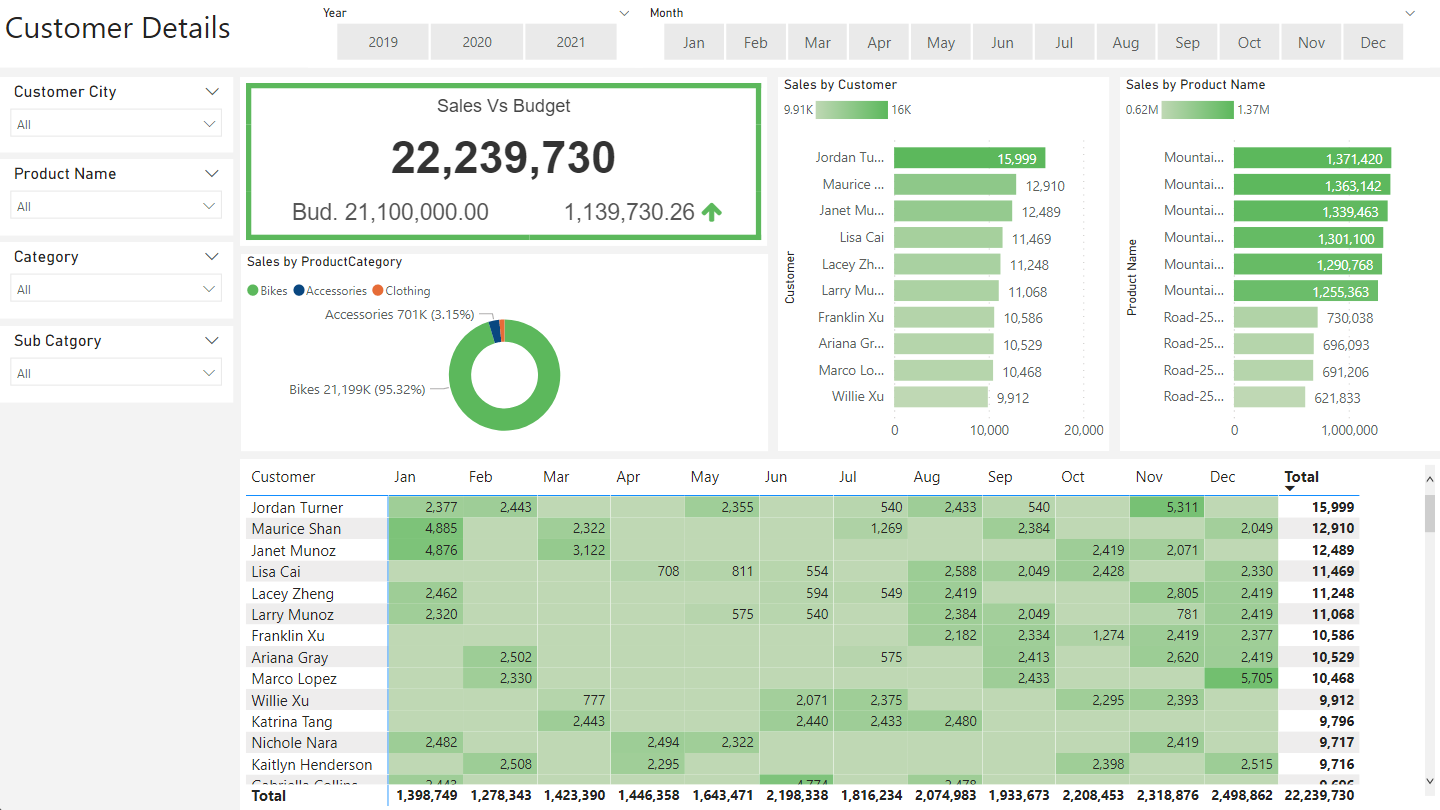

What the dashboard file says about the page in this screenshot:
{"tool":"powerbi","page":{"name":"Customer Details","canvas":[1280,720],"ordinal":1},"visuals":[{"type":"textbox","box":[0,0,1280,60],"z":0},{"type":"slicer","fields":{"Values":["DIM_Customer.CustomerCity"]},"box":[0,68.1,208.1,67.1],"z":1000},{"type":"slicer","title":"Sub Category","fields":{"Values":["DIM_Product.ProductSubCategory"]},"box":[0,289.4,207.7,68.4],"z":2000},{"type":"slicer","title":"Sub Category","fields":{"Values":["DIM_Product.ProductCategory"]},"box":[0,214.8,207.7,68.4],"z":3000},{"type":"slicer","title":"Sub Category","fields":{"Values":["DIM_Product.ProductName"]},"box":[0,141.2,207.7,68.4],"z":4000},{"type":"slicer","fields":{"Values":["DIM_Calendar.Year"]},"box":[274.2,0,298.2,60],"z":5000},{"type":"slicer","fields":{"Values":["DIM_Calendar.MonthShort"]},"box":[564.4,0,705.6,60],"z":6000},{"type":"BBED0A4D4D8D44CE93CF2DAFADEE466C","fields":{"actual":["Key Measures.Sales"],"target1":["Key Measures.Budget Amount"],"target2":["Key Measures.Sales - Budgets"]},"box":[214,68.4,467.9,150],"z":7000},{"type":"donutChart","fields":{"Category":["DIM_Product.ProductCategory"],"Y":["Key Measures.Sales"]},"box":[214.8,225.5,467.9,174.9],"z":8000},{"type":"barChart","fields":{"Y":["Key Measures.Sales"],"Category":["DIM_Customer.FullName"]},"box":[691.6,68.4,293.9,332],"z":10000},{"type":"barChart","fields":{"Y":["Key Measures.Sales"],"Category":["DIM_Product.ProductName"]},"box":[995.2,68.4,285,332],"z":11000},{"type":"pivotTable","fields":{"Rows":["DIM_Customer.FullName"],"Columns":["DIM_Calendar.MonthShort"],"Values":["Key Measures.Sales"]},"box":[214,407.5,1066.2,312.5],"z":11001}]}

Visuals, with their boxes in screenshot pixels (x1, y1, x2, y2), scaled from the page's 1280x720 canvas onto the 1440x810 screenshot:
textbox: x1=0, y1=0, x2=1439, y2=68
slicer - DIM_Customer.CustomerCity: x1=0, y1=77, x2=234, y2=152
"Sub Category" slicer: x1=0, y1=326, x2=234, y2=403
"Sub Category" slicer: x1=0, y1=242, x2=234, y2=319
"Sub Category" slicer: x1=0, y1=159, x2=234, y2=236
slicer - DIM_Calendar.Year: x1=308, y1=0, x2=644, y2=68
slicer - DIM_Calendar.MonthShort: x1=635, y1=0, x2=1429, y2=68
BBED0A4D4D8D44CE93CF2DAFADEE466C - Key Measures.Sales x Key Measures.Budget Amount: x1=241, y1=77, x2=767, y2=246
donutChart - DIM_Product.ProductCategory x Key Measures.Sales: x1=242, y1=254, x2=768, y2=450
barChart - Key Measures.Sales x DIM_Customer.FullName: x1=778, y1=77, x2=1109, y2=450
barChart - Key Measures.Sales x DIM_Product.ProductName: x1=1120, y1=77, x2=1439, y2=450
pivotTable - DIM_Customer.FullName x DIM_Calendar.MonthShort: x1=241, y1=458, x2=1439, y2=809
